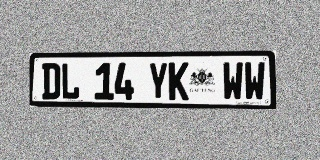1: (95, 63, 114, 100)
4: (115, 62, 134, 100)
D: (42, 63, 60, 99)
K: (169, 62, 189, 100)
L: (61, 63, 80, 99)
W: (222, 62, 243, 101), (244, 62, 265, 101)
Y: (148, 62, 168, 100)
